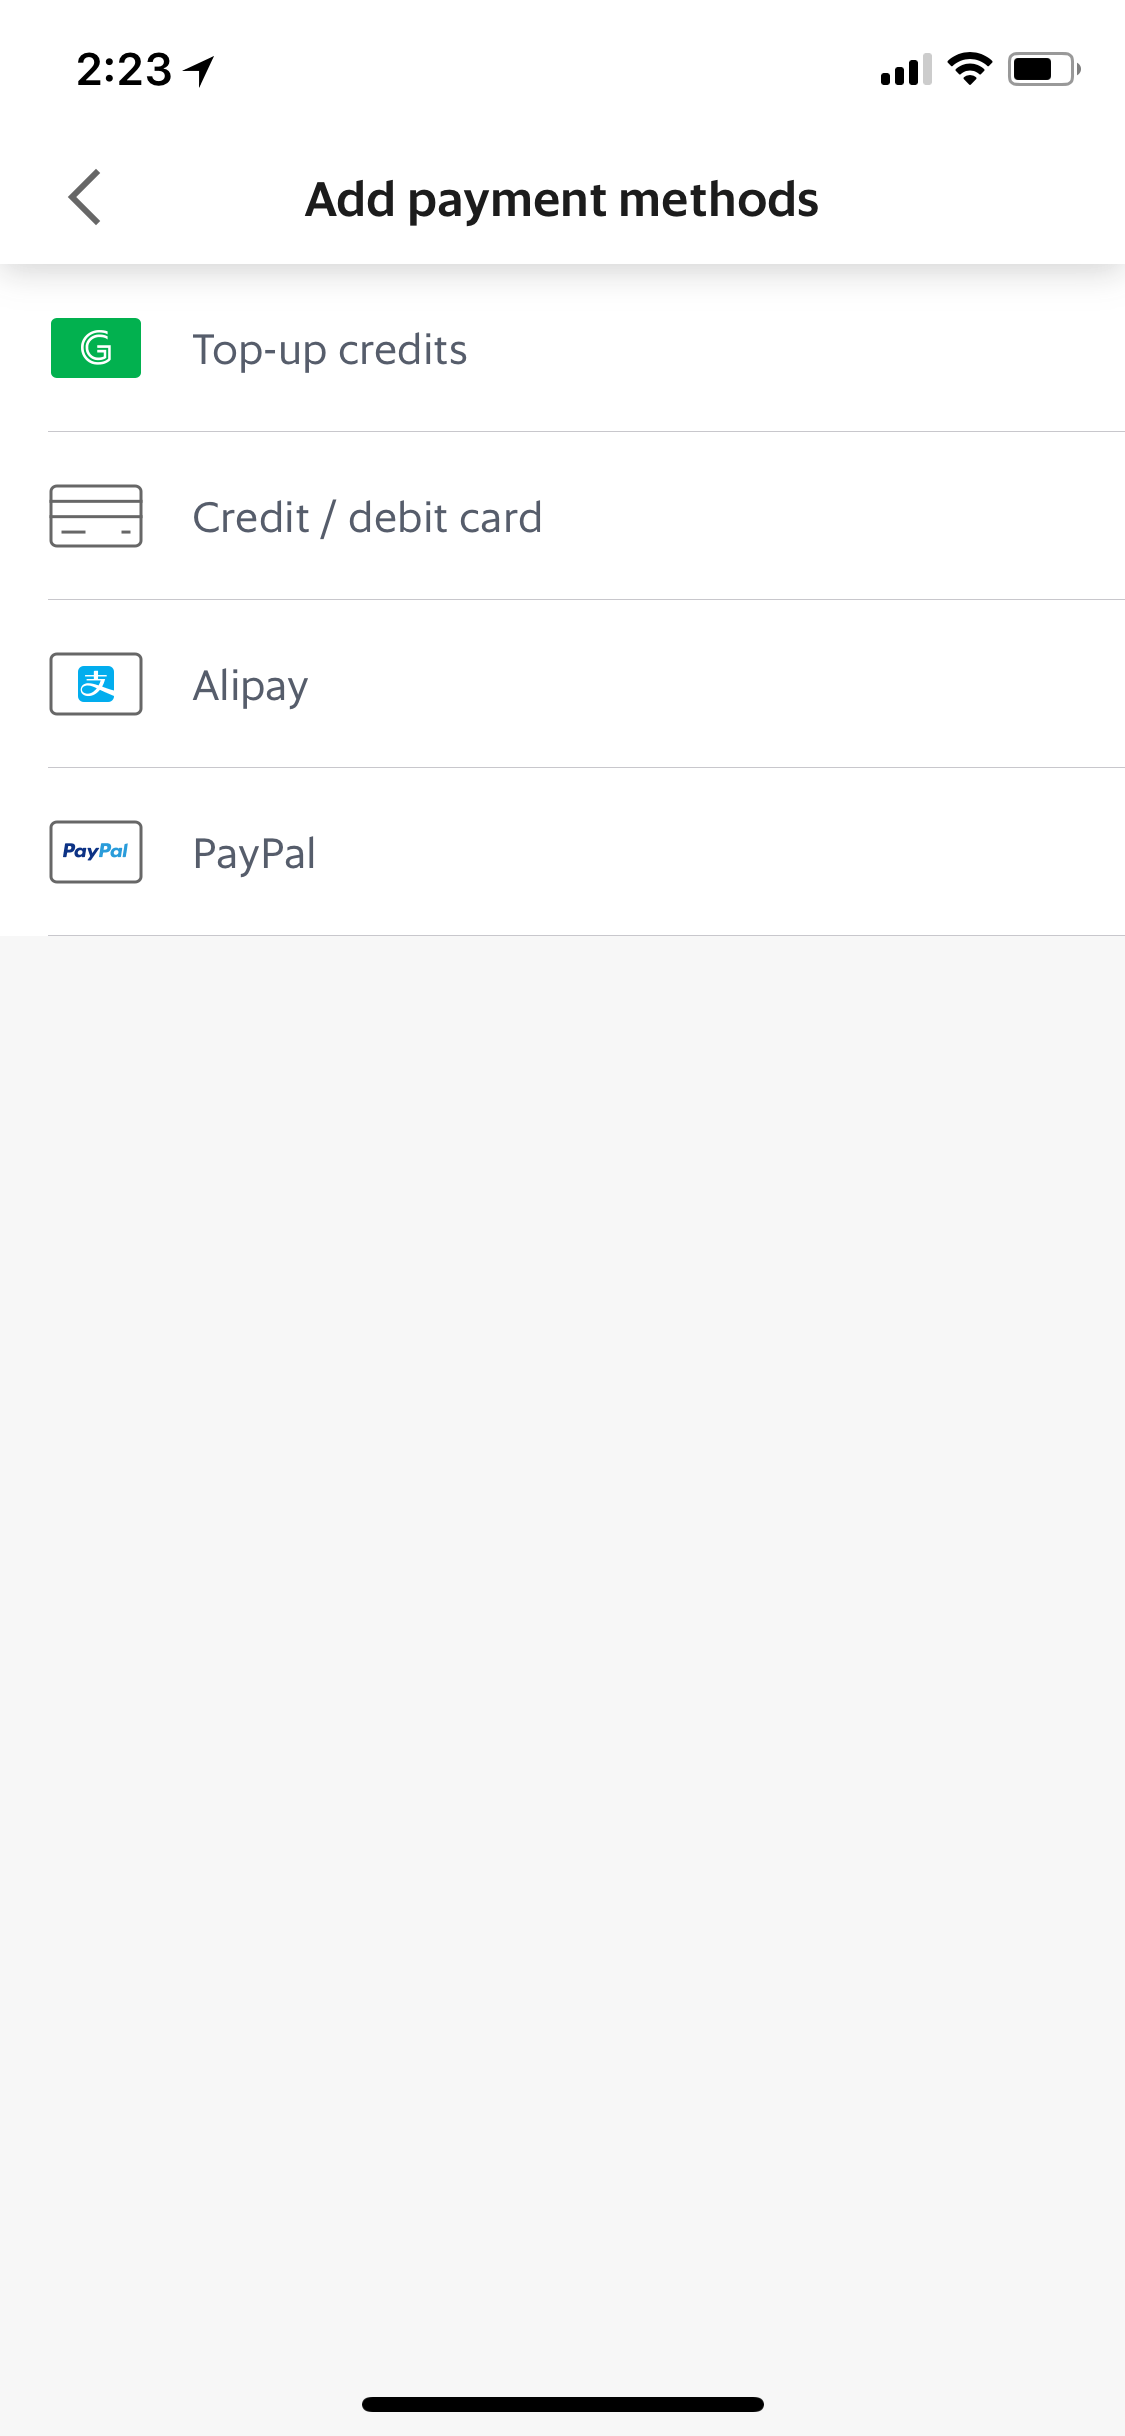Buttons: (23, 126, 162, 253)
